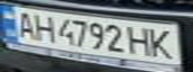2: (103, 21, 127, 54)
4: (54, 16, 75, 46)
7: (69, 17, 90, 48)
9: (84, 20, 109, 52)
A: (12, 8, 39, 39)
H: (124, 24, 154, 57), (30, 12, 57, 43)
K: (145, 26, 178, 60)
